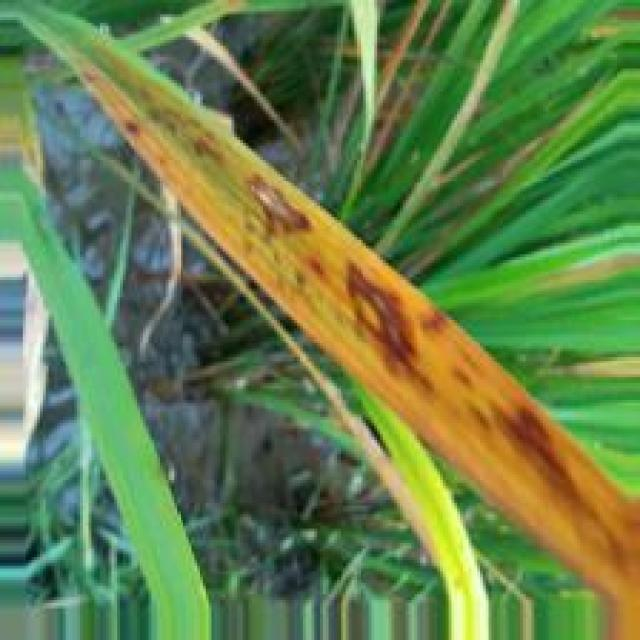Narrow_Brown_Leaf_Spot: (75, 40, 640, 640)
